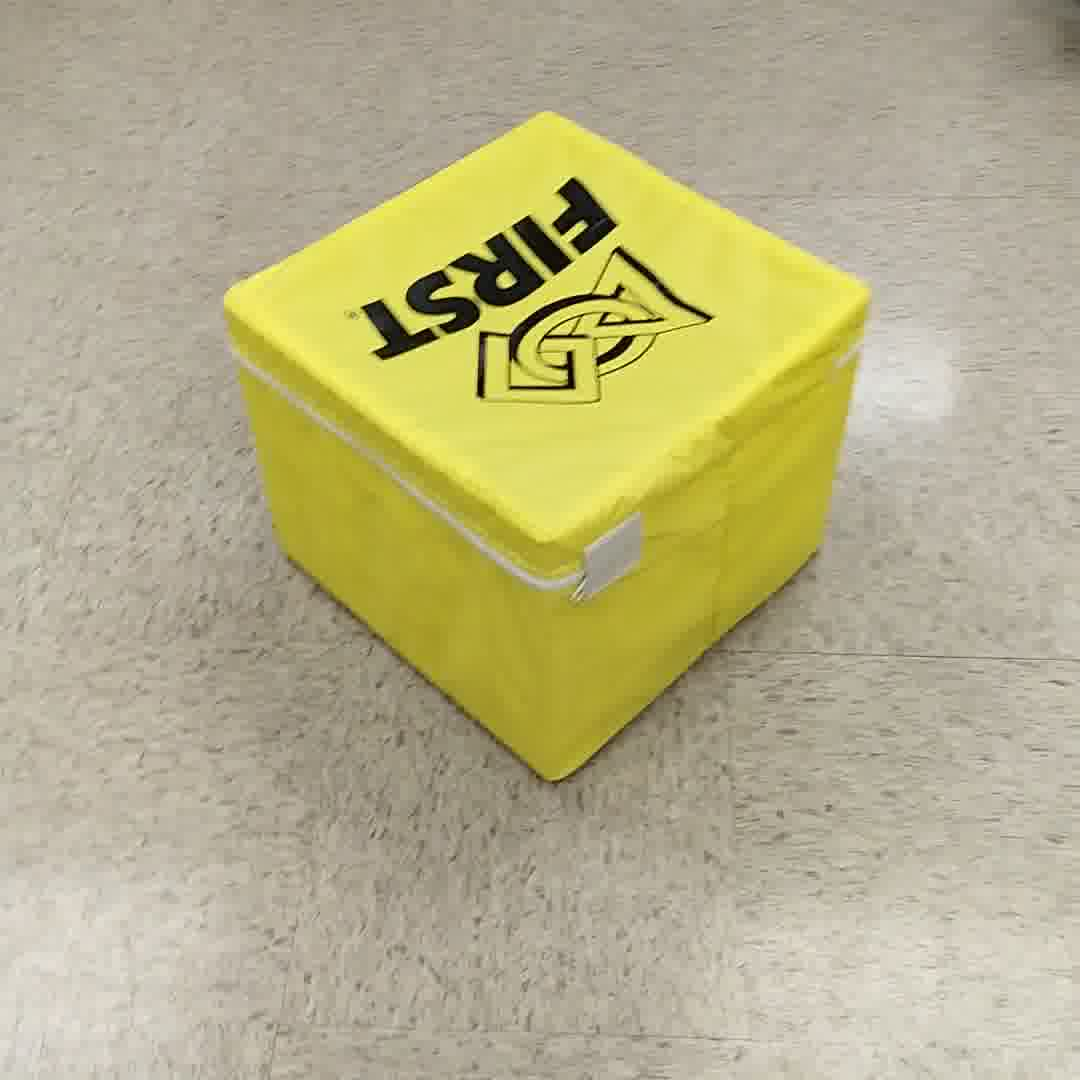box: (208, 113, 880, 789)
